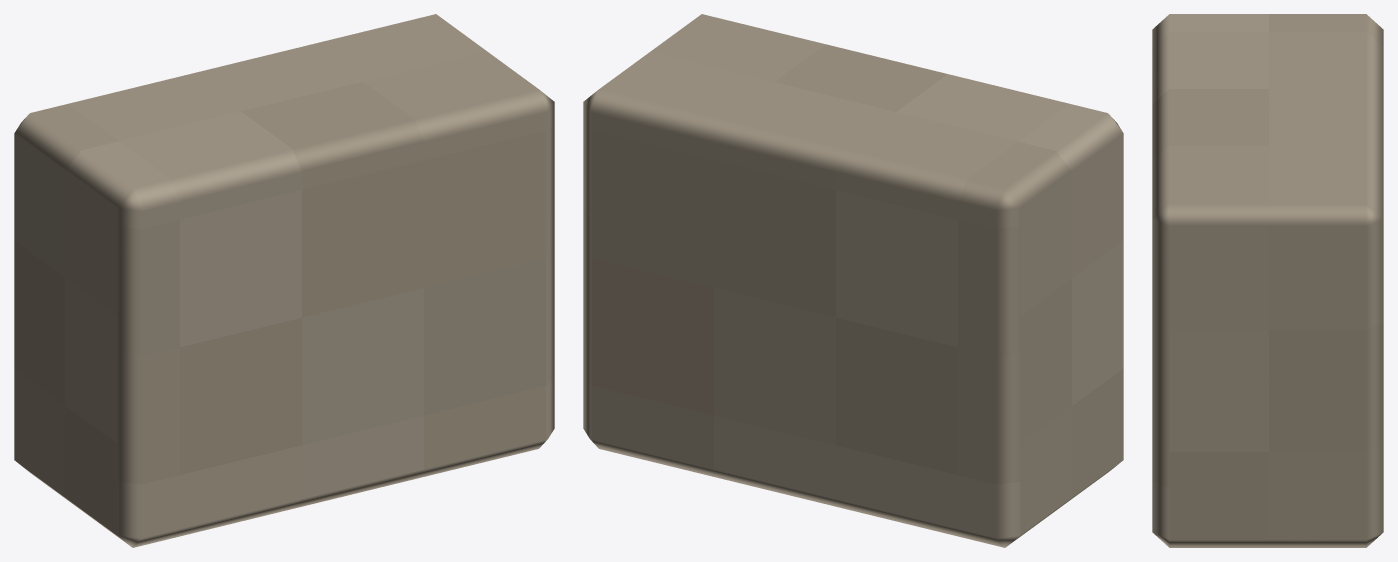
The model's file is Dial-Left.glb.
3 renders of one model, left to right at view 1: azimuth 30°, elevation 25°; view 2: azimuth 150°, elevation 25°; view 3: azimuth 270°, elevation 25°, orthographic. The views are drawn at different scales.
Visible parts, largest first — view 1: Dial-Left; view 2: Dial-Left; view 3: Dial-Left.
Part boxes in pixels (x1=…): Dial-Left: x1=14, y1=14, x2=554, y2=547; Dial-Left: x1=583, y1=14, x2=1123, y2=547; Dial-Left: x1=1152, y1=14, x2=1383, y2=547.
Bounding box in the file's own units: 0.14 × 0.11 × 0.067.
1 material, 1 textured.
